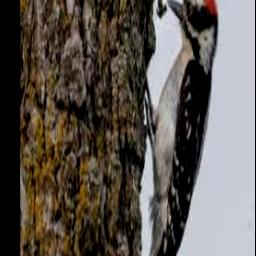Woodpecker: (144, 0, 219, 256)
